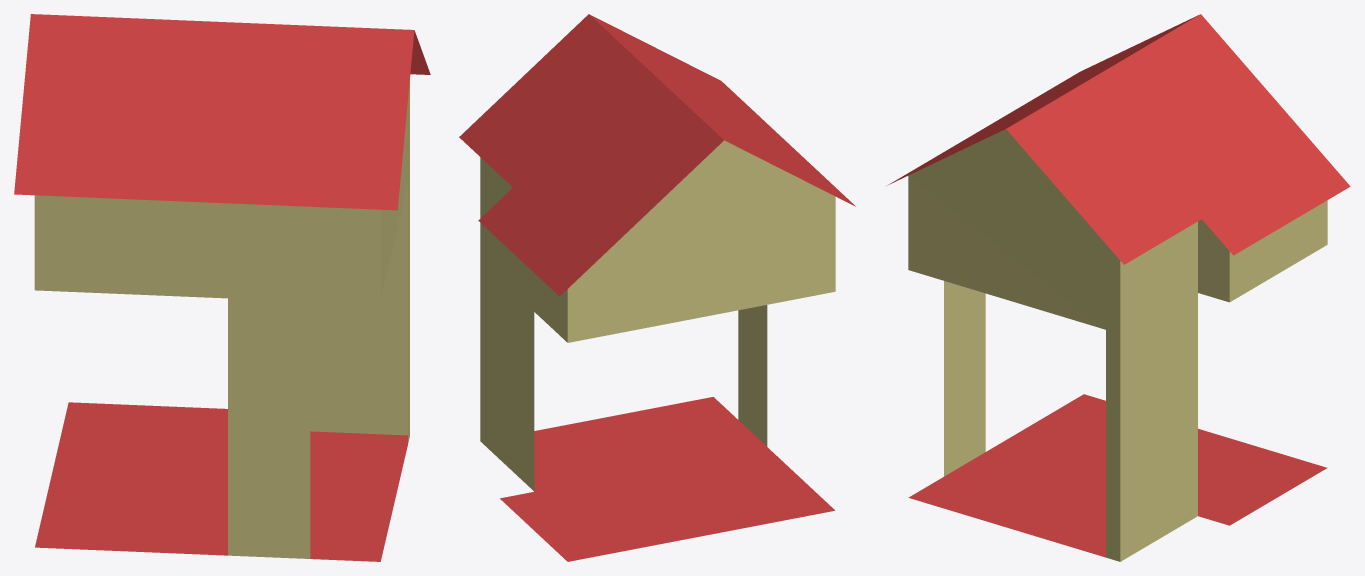
3 renders of one model, left to right at view 1: azimuth 30°, elevation 25°; view 2: azimuth 150°, elevation 25°; view 3: azimuth 270°, elevation 25°, orthographic. The views are drawn at different scales.
Size of the model in its own units: 13.47 by 14.15 by 13.65.
